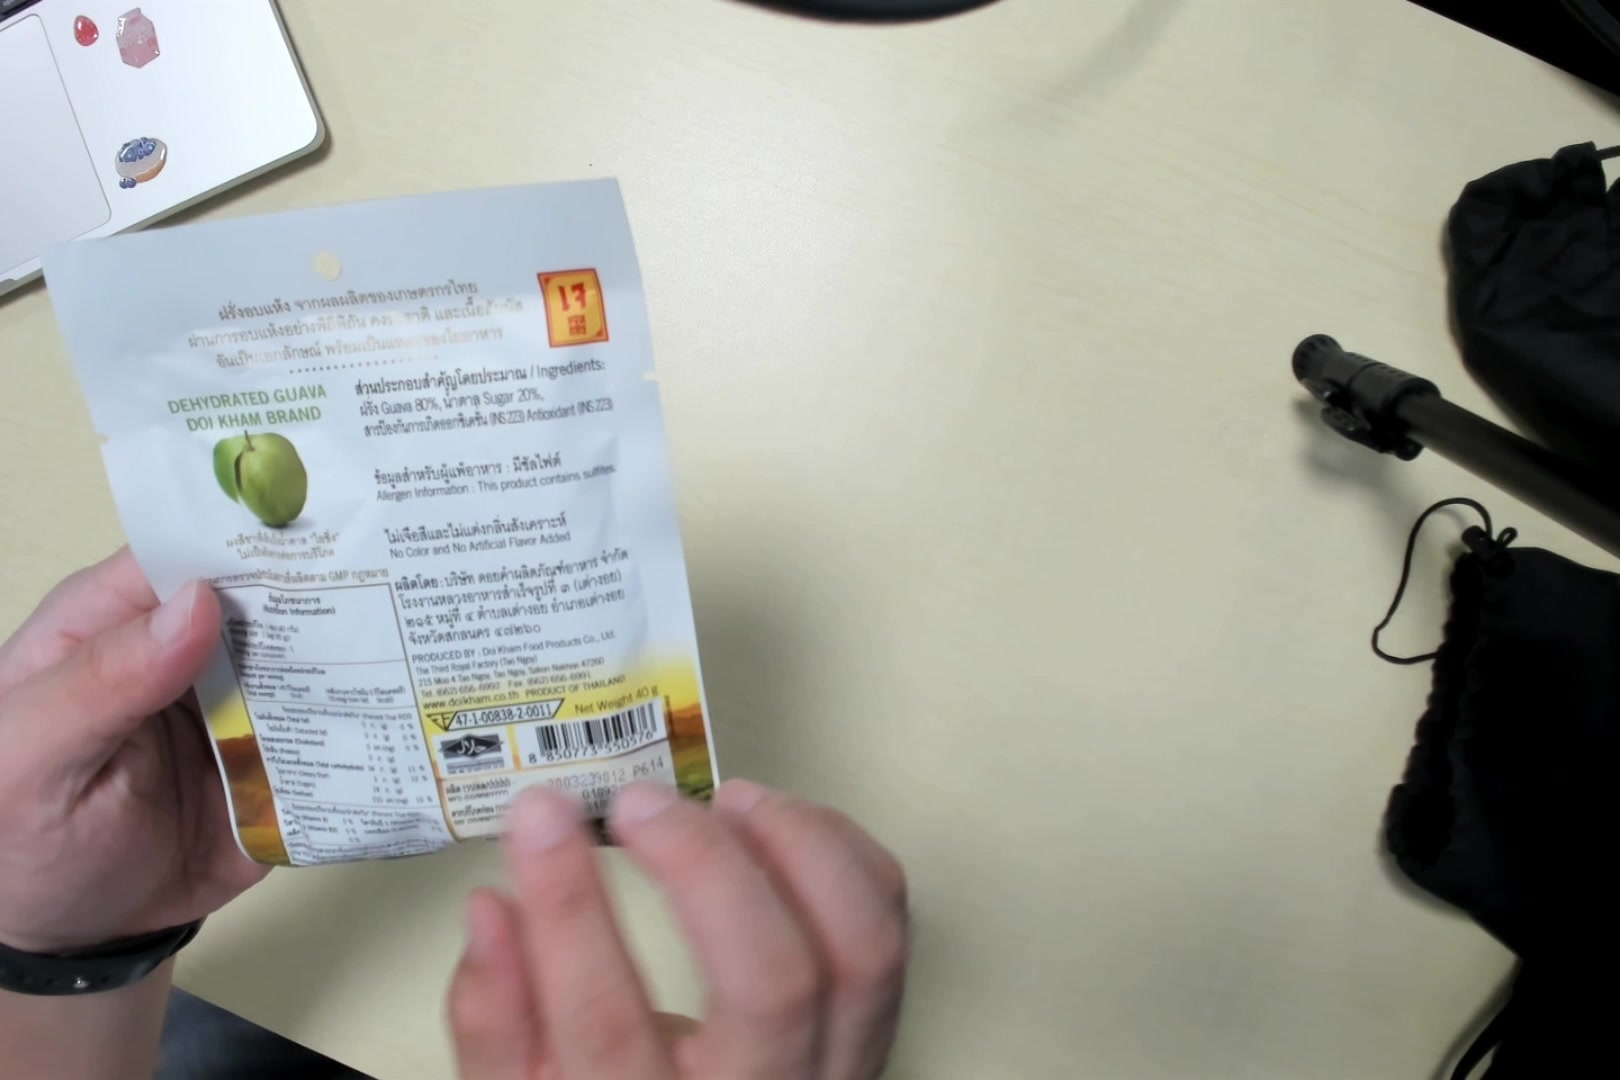DriedFruits_0-99g_Halal_NonHealthy: (81, 213, 720, 869)
